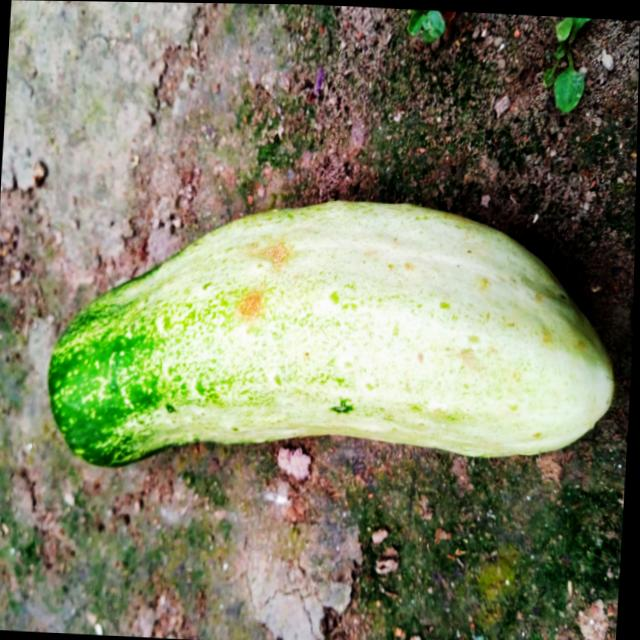Belly-Rot: (226, 224, 303, 327)
